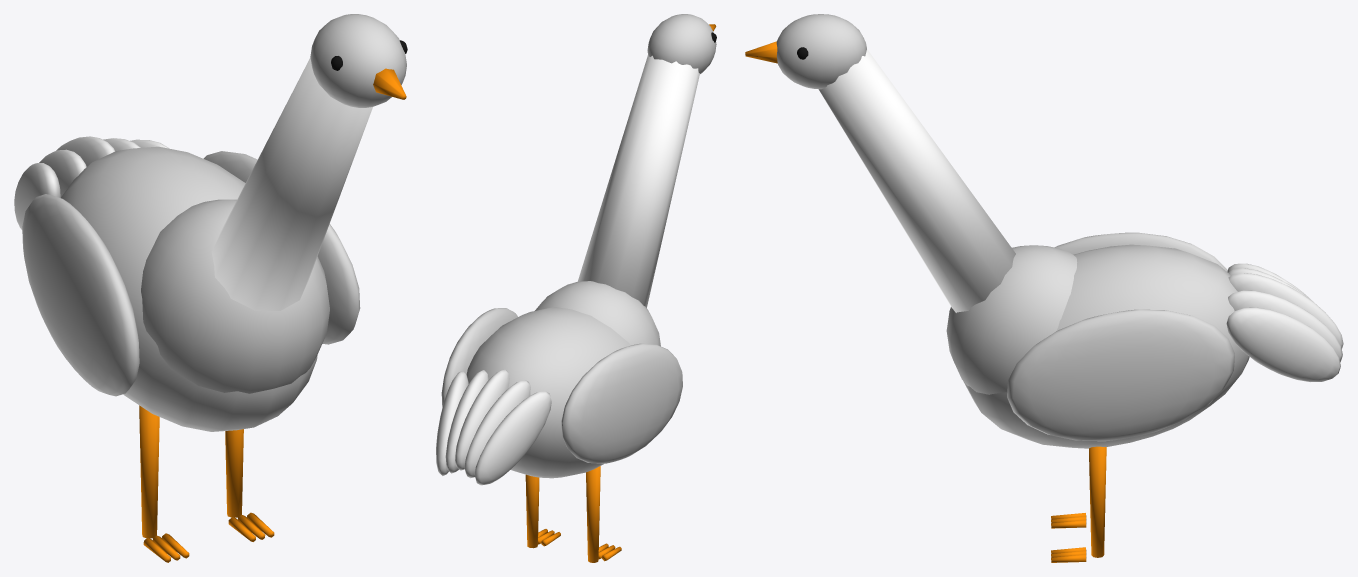
Rendered from goose.glb.
The picture shows the model from 3 angles, left to right: view 1: azimuth 30°, elevation 25°; view 2: azimuth 150°, elevation 25°; view 3: azimuth 270°, elevation 25°; orthographic projection. The views are drawn at different scales.
Visible parts, largest first — view 1: goose; view 2: goose; view 3: goose.
Part boxes in pixels (x1=…): goose: x1=14, y1=14, x2=407, y2=562; goose: x1=436, y1=14, x2=716, y2=562; goose: x1=745, y1=14, x2=1343, y2=562.
Size of the model in its own units: 0.6061 by 1.49 by 1.54.
